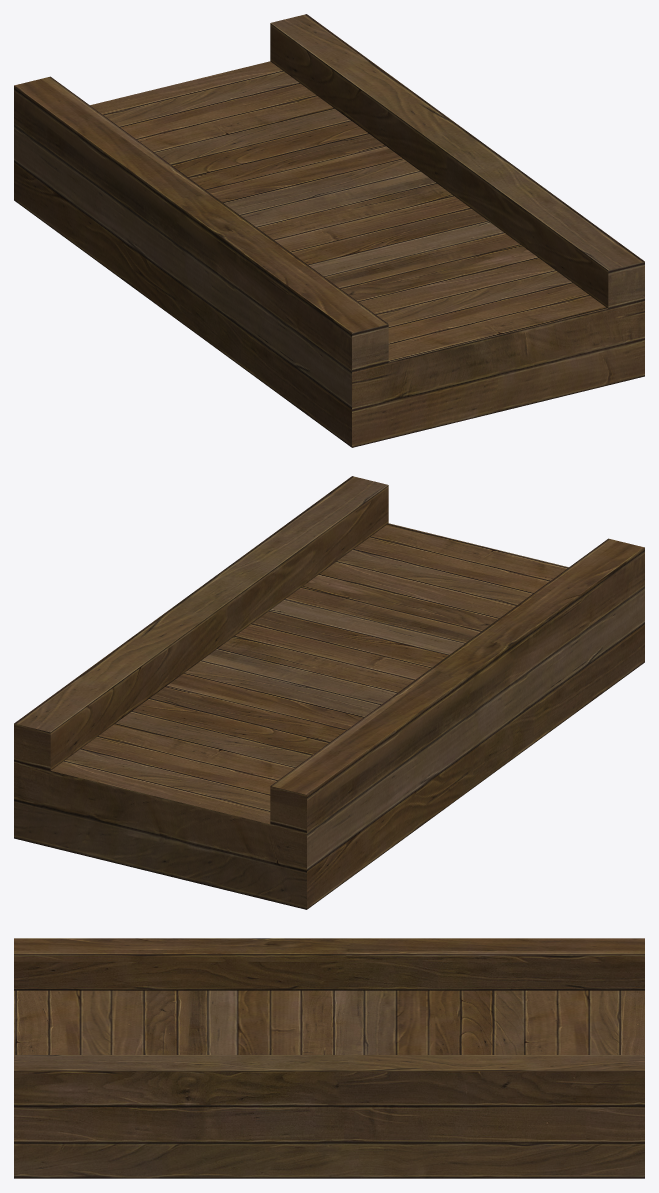
Rendered from Gutter.gltf.
3 views of the same model, one above another, from view 1: azimuth 30°, elevation 25°; view 2: azimuth 150°, elevation 25°; view 3: azimuth 270°, elevation 25° (orthographic). The views are drawn at different scales.
Visible parts, largest first — view 1: Gutter_glb; view 2: Gutter_glb; view 3: Gutter_glb.
Boxes of the visible parts, <box> form: Gutter_glb: <box>14,14,644,447</box>; Gutter_glb: <box>14,476,644,909</box>; Gutter_glb: <box>14,938,644,1178</box>.
Size of what is drawn, in the model's own units: 2 by 0.75 by 4.
1 material, 1 textured.
